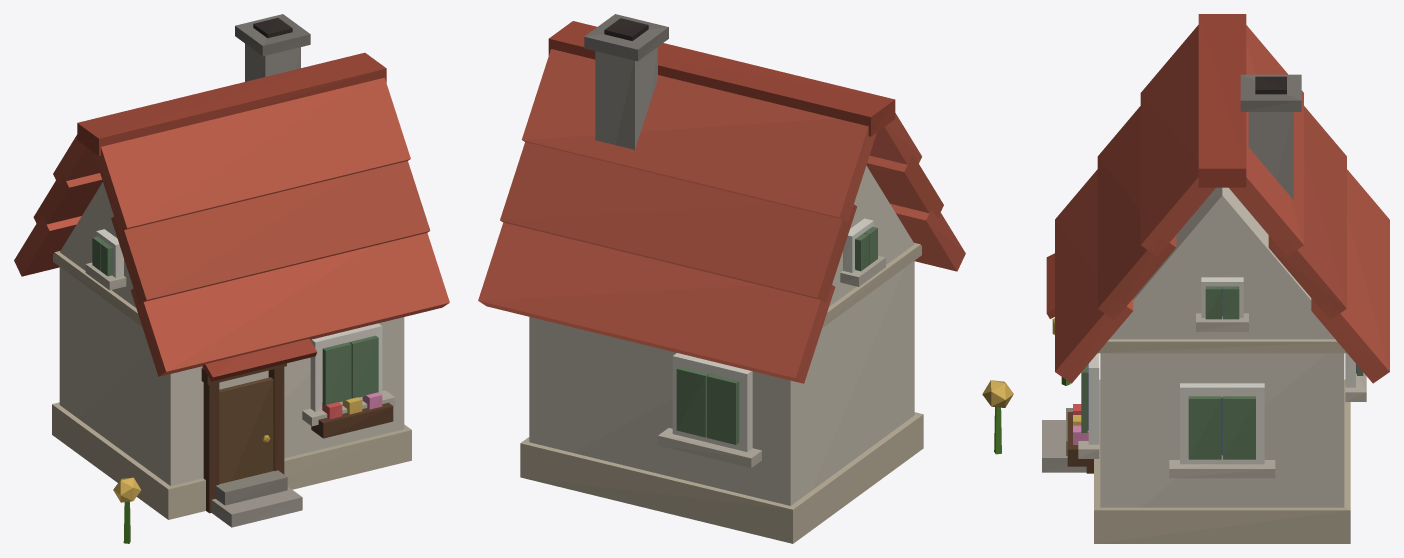
Rendered from maison-volets.glb.
3 views of the same model, side by side, from view 1: azimuth 30°, elevation 25°; view 2: azimuth 150°, elevation 25°; view 3: azimuth 270°, elevation 25° (orthographic). The views are drawn at different scales.
Size of the model in its own units: 5.32 by 6 by 4.41.
